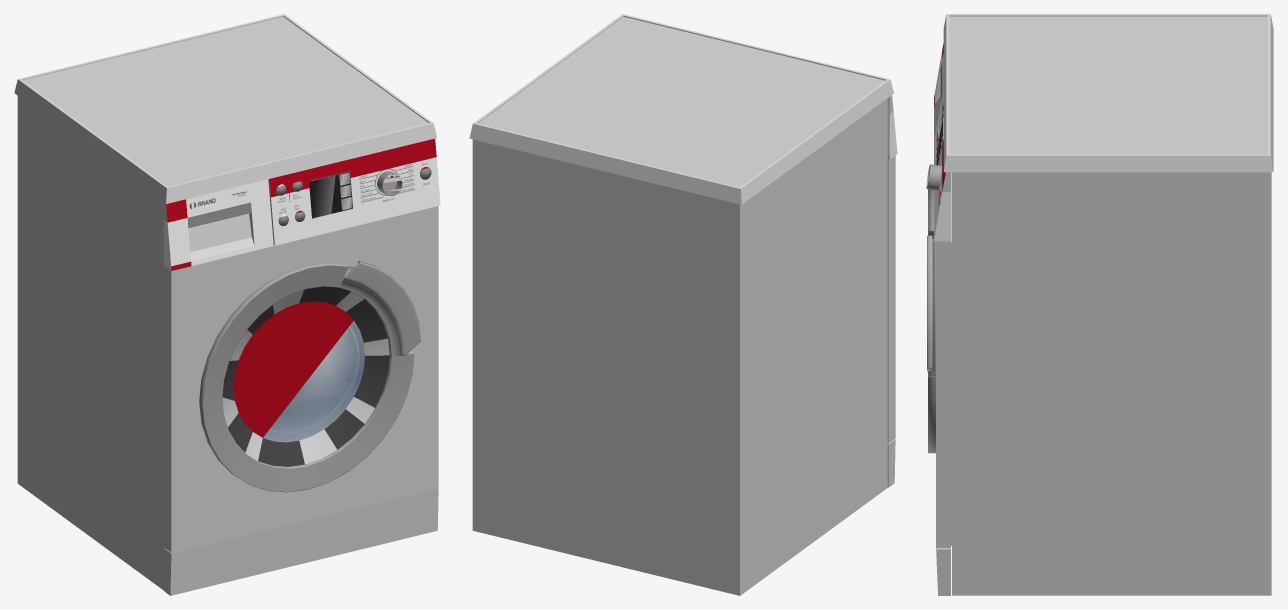
Rendered from domestic4.gltf.
3 views of the same model, side by side, from view 1: azimuth 30°, elevation 25°; view 2: azimuth 150°, elevation 25°; view 3: azimuth 270°, elevation 25° (orthographic). The views are drawn at different scales.
Visible parts, largest first — view 1: Cube.007_Cube.009; view 2: Cube.007_Cube.009; view 3: Cube.007_Cube.009.
Boxes of the visible parts, x1=… form: Cube.007_Cube.009: x1=14, y1=14, x2=440, y2=595; Cube.007_Cube.009: x1=469, y1=14, x2=897, y2=595; Cube.007_Cube.009: x1=926, y1=14, x2=1273, y2=595.
Bounding box in the file's own units: 59 × 84.2 × 60.15.
9 materials, 2 textured.
